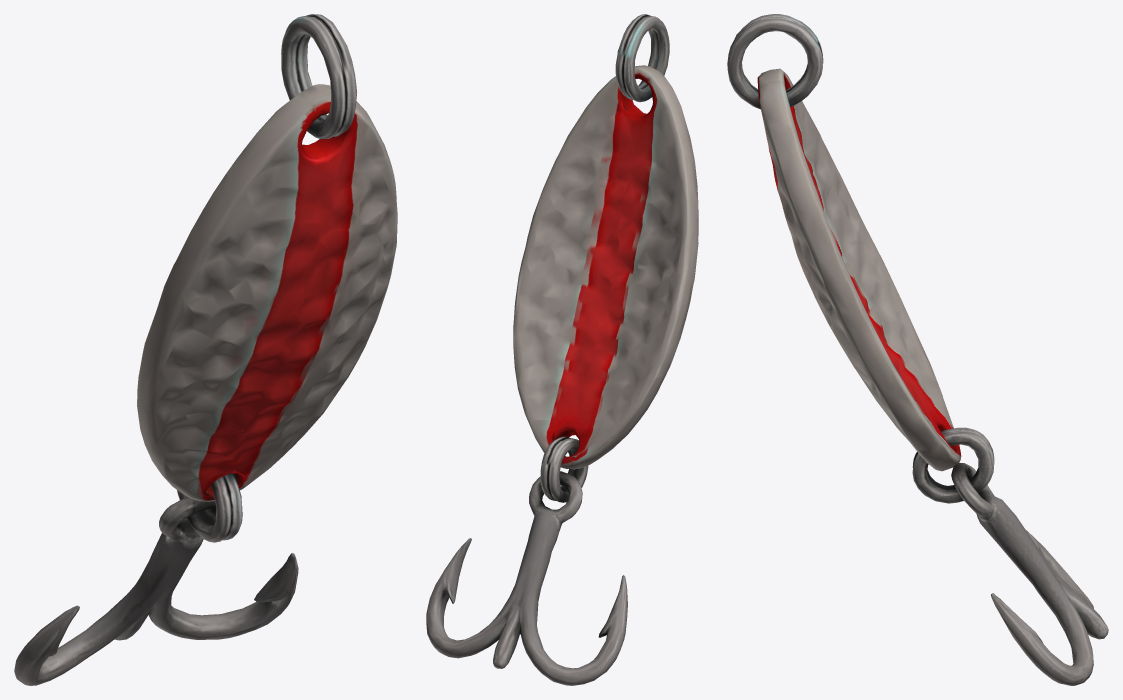
File: gear-spoon.glb
3 renders of one model, left to right at view 1: azimuth 30°, elevation 25°; view 2: azimuth 150°, elevation 25°; view 3: azimuth 270°, elevation 25°, orthographic. The views are drawn at different scales.
Visible parts, largest first — view 1: tripo_node_a6bc2517-2537-4a31-89a0-e6b638e49380; view 2: tripo_node_a6bc2517-2537-4a31-89a0-e6b638e49380; view 3: tripo_node_a6bc2517-2537-4a31-89a0-e6b638e49380.
Part boxes in pixels (x1,y1,x2,y2): tripo_node_a6bc2517-2537-4a31-89a0-e6b638e49380: [14, 14, 397, 685]; tripo_node_a6bc2517-2537-4a31-89a0-e6b638e49380: [426, 14, 698, 685]; tripo_node_a6bc2517-2537-4a31-89a0-e6b638e49380: [727, 14, 1108, 685].
Size of the model in its own units: 0.3591 by 0.9996 by 0.547.
1 material, 1 textured.
